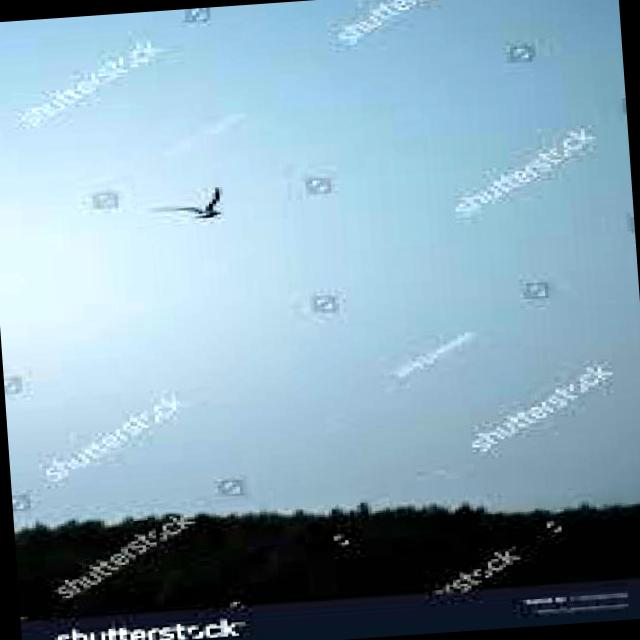bird: (154, 182, 236, 224)
